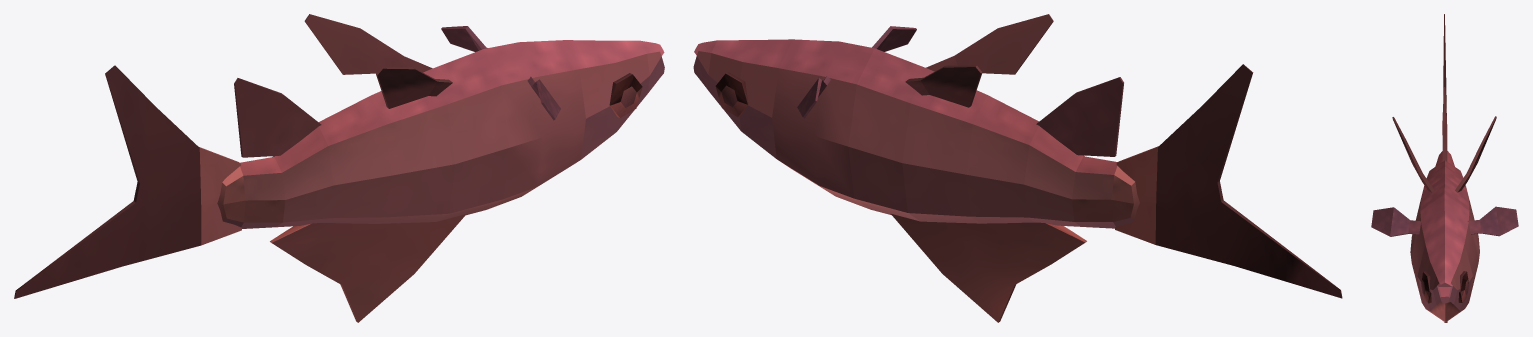
The model's file is fish_2.glb.
3 views of the same model, side by side, from view 1: azimuth 30°, elevation 25°; view 2: azimuth 150°, elevation 25°; view 3: azimuth 270°, elevation 25° (orthographic). The views are drawn at different scales.
Visible parts, largest first — view 1: Geo_Goldfish001; view 2: Geo_Goldfish001; view 3: Geo_Goldfish001.
Boxes of the visible parts, box(x1,y1,x2,y2) form: Geo_Goldfish001: box(14, 14, 664, 322); Geo_Goldfish001: box(693, 14, 1342, 322); Geo_Goldfish001: box(1371, 14, 1518, 322).
Bounding box in the file's own units: 0.9539 × 0.4467 × 0.2655.
Materials: 1 (1 with a texture image).
